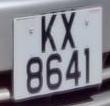1: (81, 46, 95, 89)
4: (63, 46, 84, 93)
6: (43, 50, 67, 94)
8: (24, 55, 46, 98)
K: (38, 11, 59, 56)
X: (59, 10, 79, 54)
